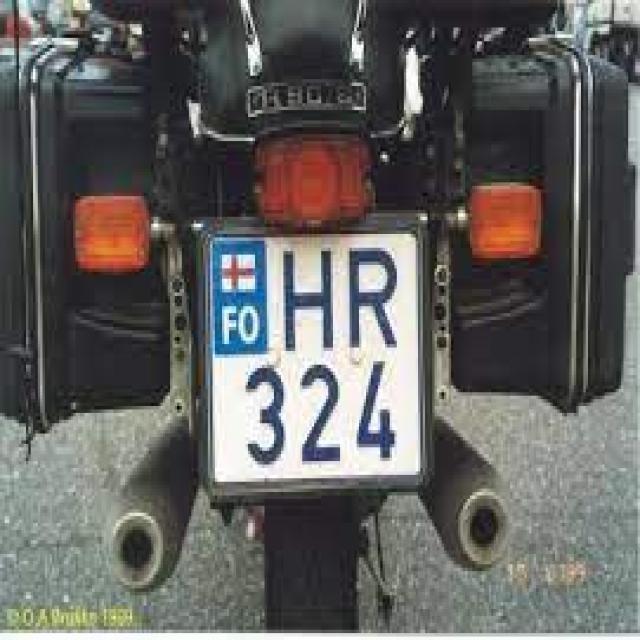license_plate: (192, 210, 434, 502)
